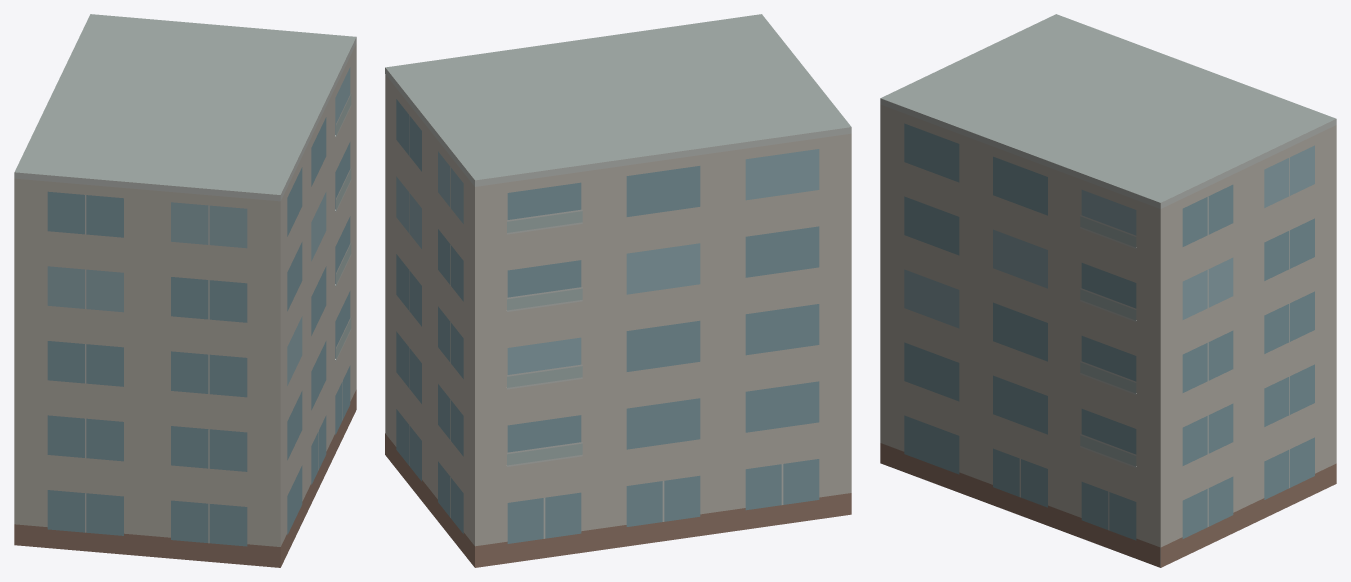
The model's file is survey-upis-32994643.glb.
3 views of the same model, side by side, from view 1: azimuth 30°, elevation 25°; view 2: azimuth 150°, elevation 25°; view 3: azimuth 270°, elevation 25° (orthographic). The views are drawn at different scales.
Parts seen in each view (by area): view 1: survey-upis-32994643.tmp; view 2: survey-upis-32994643.tmp; view 3: survey-upis-32994643.tmp.
Boxes of the visible parts, x1,y1,x2,y2 form: survey-upis-32994643.tmp: [14, 14, 356, 567]; survey-upis-32994643.tmp: [385, 14, 851, 567]; survey-upis-32994643.tmp: [880, 14, 1336, 567].
Bounding box in the file's own units: 16.11 × 14.5 × 16.44.
